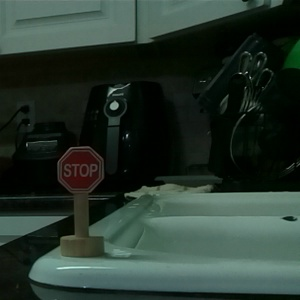stop sign: (53, 143, 111, 259)
